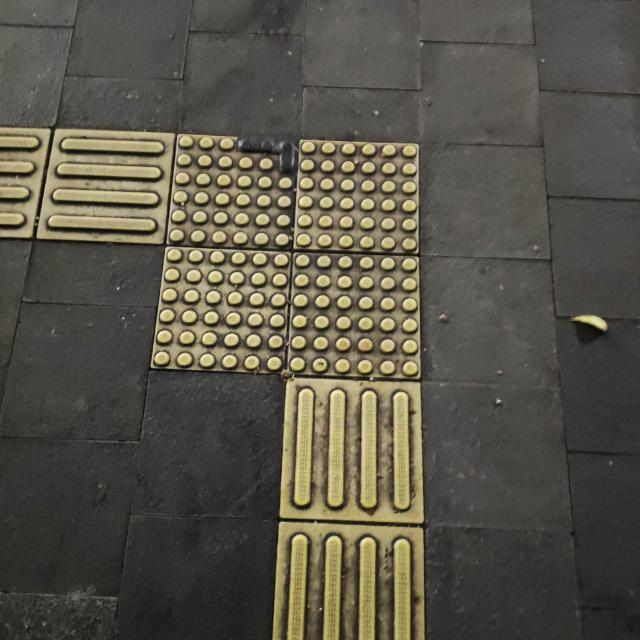kiri: (0, 88, 488, 515)
